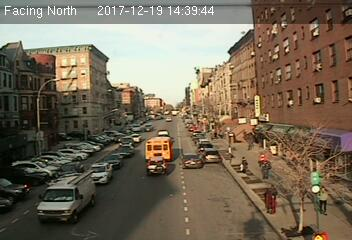car: (89, 163, 113, 186), (55, 161, 85, 177), (146, 157, 169, 177), (179, 153, 204, 171), (202, 147, 221, 164), (101, 155, 123, 168), (117, 143, 135, 157)
pedestrian: (260, 159, 270, 182), (240, 157, 248, 175)
truck: (35, 172, 97, 223), (145, 137, 173, 163)
